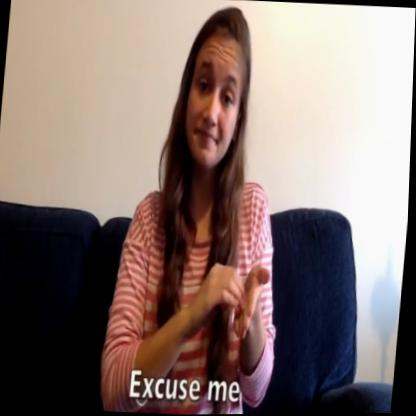ExcuseMe: (196, 235, 283, 358)
